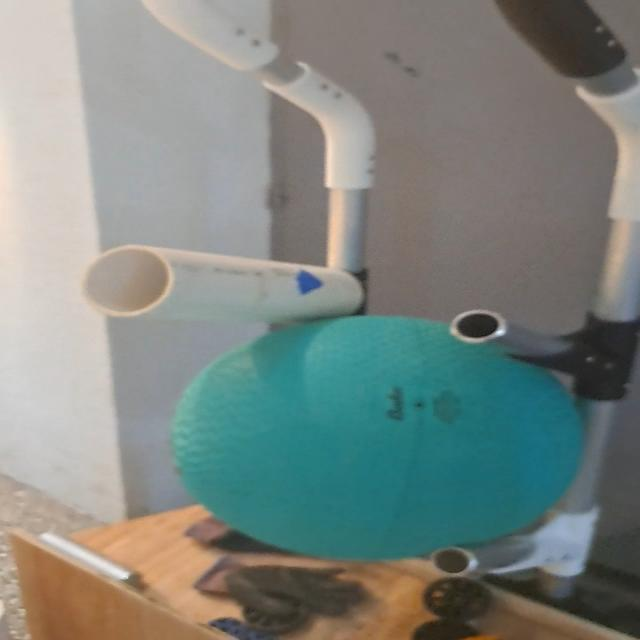ALGAE: (172, 314, 592, 562)
CORAL: (76, 242, 368, 324)
